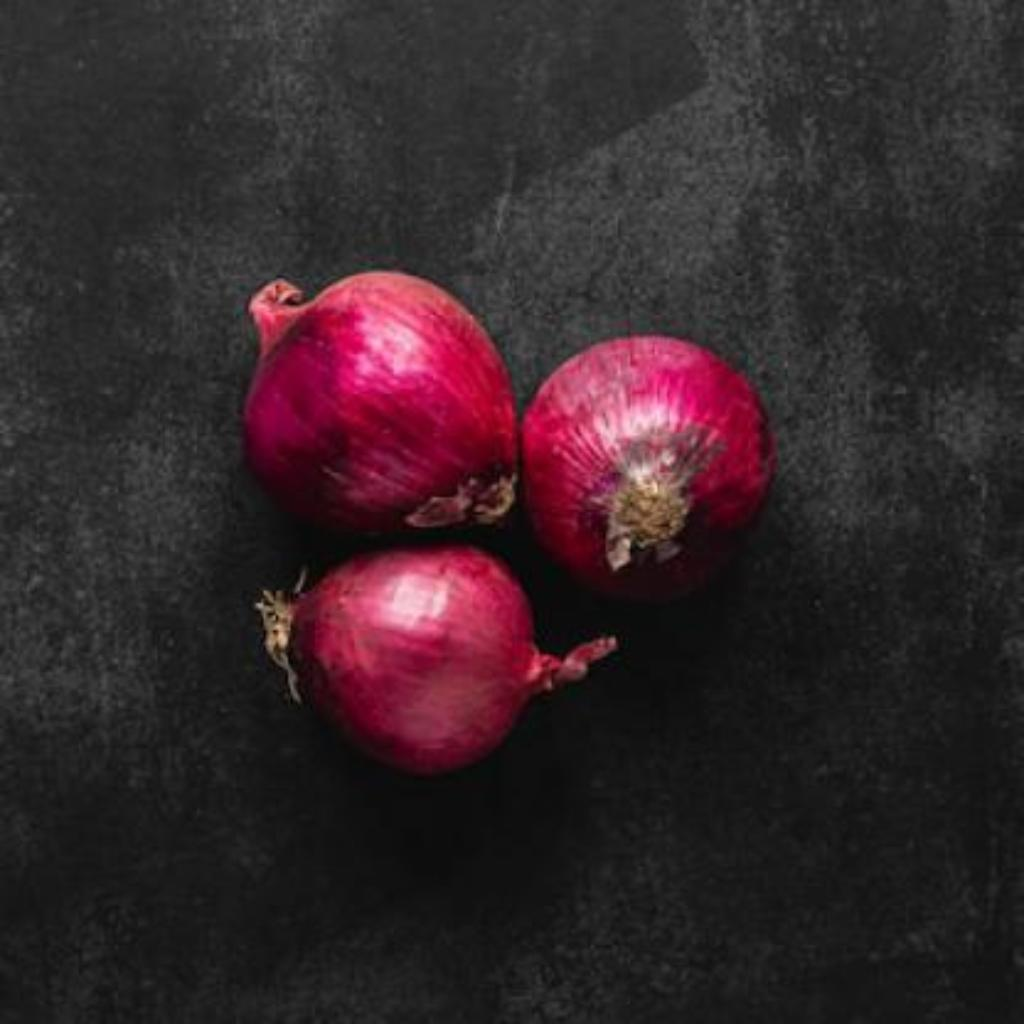Onion: (258, 546, 618, 777), (244, 271, 519, 533), (522, 337, 778, 602)
